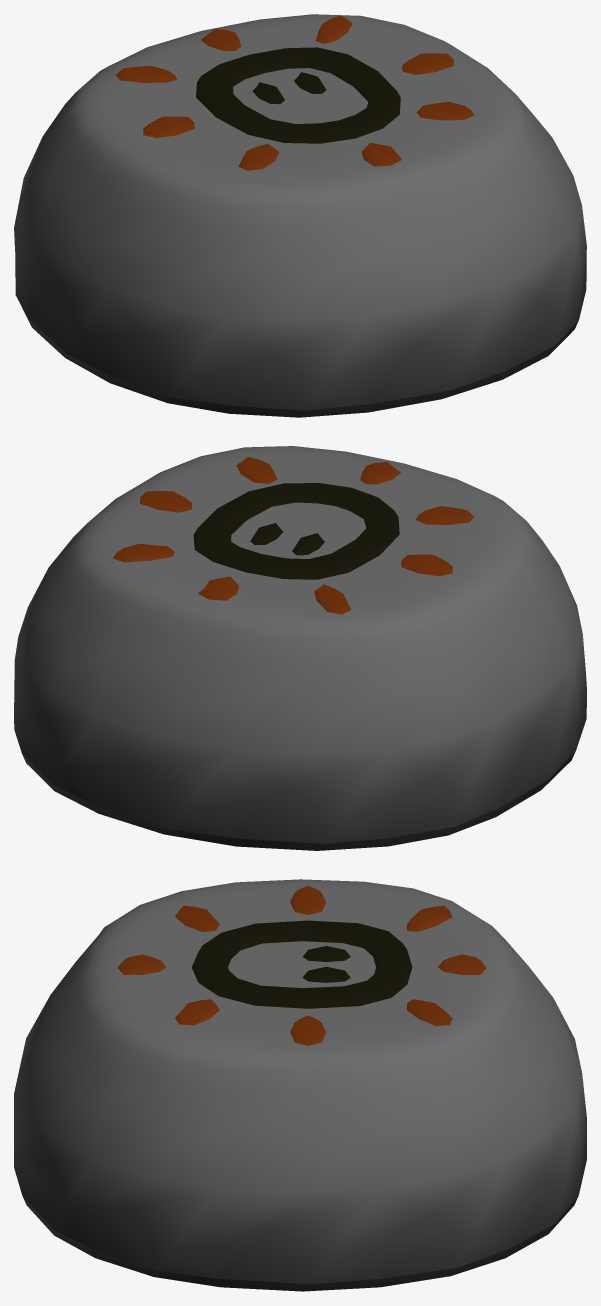
Rendered from SM_MindRune.fbx.
3 renders of one model, top to bottom at view 1: azimuth 30°, elevation 25°; view 2: azimuth 150°, elevation 25°; view 3: azimuth 270°, elevation 25°, orthographic. The views are drawn at different scales.
Parts seen in each view (by area): view 1: SM_MindRune; view 2: SM_MindRune; view 3: SM_MindRune.
Boxes of the visible parts, x1,y1,x2,y2 form: SM_MindRune: (14,14,586,417); SM_MindRune: (14,446,586,850); SM_MindRune: (14,879,586,1291).
Bounding box in the file's own units: 40.01 × 16.75 × 40.01.
